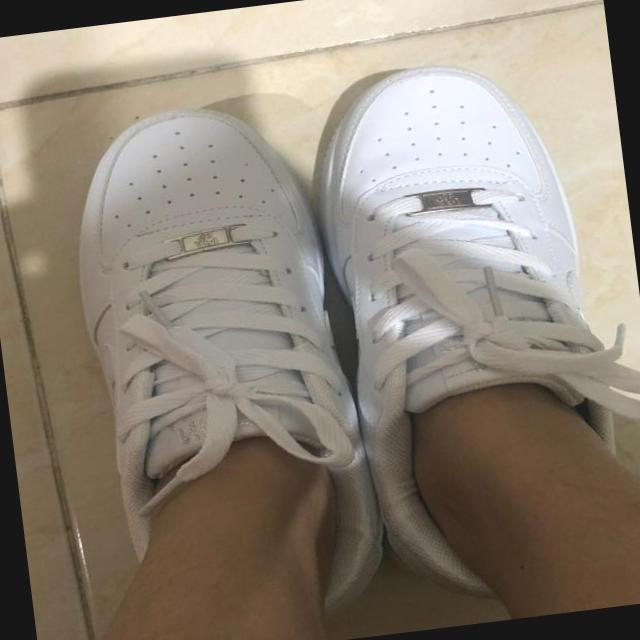nike_fake_airforce: (296, 30, 640, 614), (50, 86, 391, 640)
